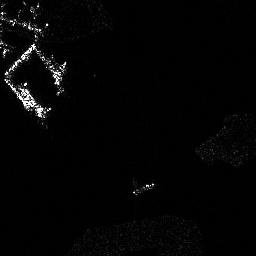ship: (17, 84, 48, 119), (55, 60, 68, 85), (132, 183, 156, 195)
